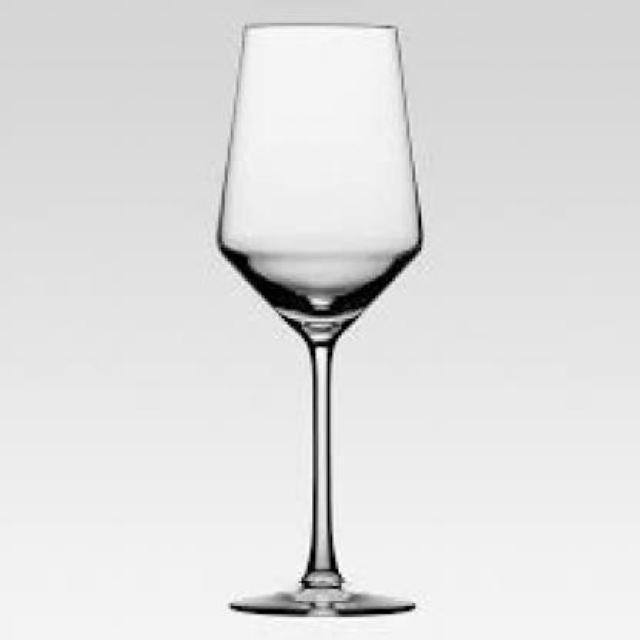kaca: (211, 17, 418, 612)
